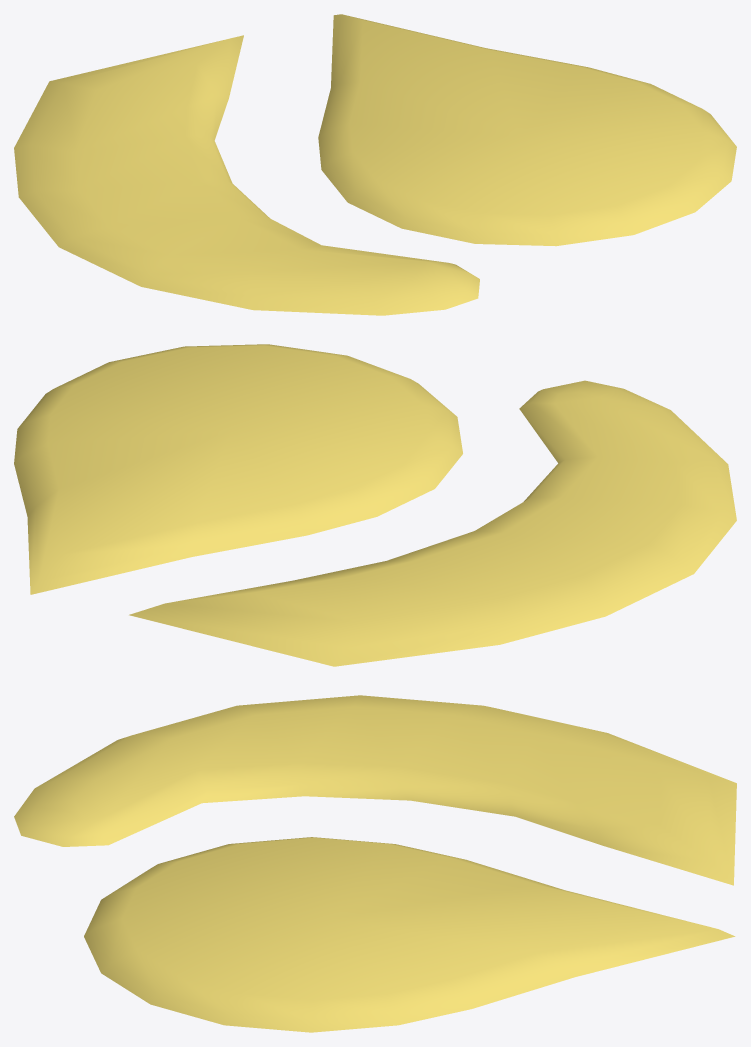
File: Water Terrain.fbx
The picture shows the model from 3 angles, top to bottom: view 1: azimuth 30°, elevation 25°; view 2: azimuth 150°, elevation 25°; view 3: azimuth 270°, elevation 25°; orthographic projection. The views are drawn at different scales.
Visible parts, largest first — view 1: WaterTerrain1, WaterTerrain2; view 2: WaterTerrain1, WaterTerrain2; view 3: WaterTerrain1, WaterTerrain2.
Part boxes in pixels (<box>): WaterTerrain1: <box>318,14,736,246</box>; WaterTerrain2: <box>14,35,479,315</box>; WaterTerrain1: <box>14,344,462,594</box>; WaterTerrain2: <box>129,380,736,666</box>; WaterTerrain1: <box>84,837,735,1032</box>; WaterTerrain2: <box>14,695,736,885</box>.
Size of the model in its own units: 9288 by 258 by 8529.
